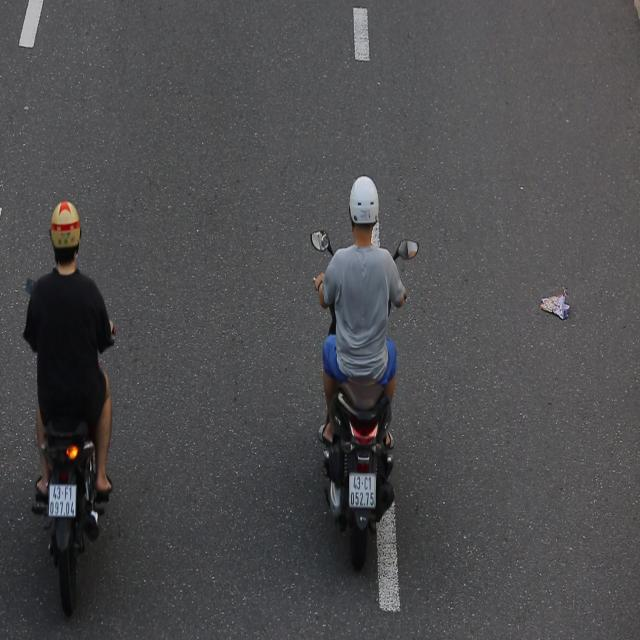motorbike: (310, 164, 417, 578), (19, 195, 118, 620)
